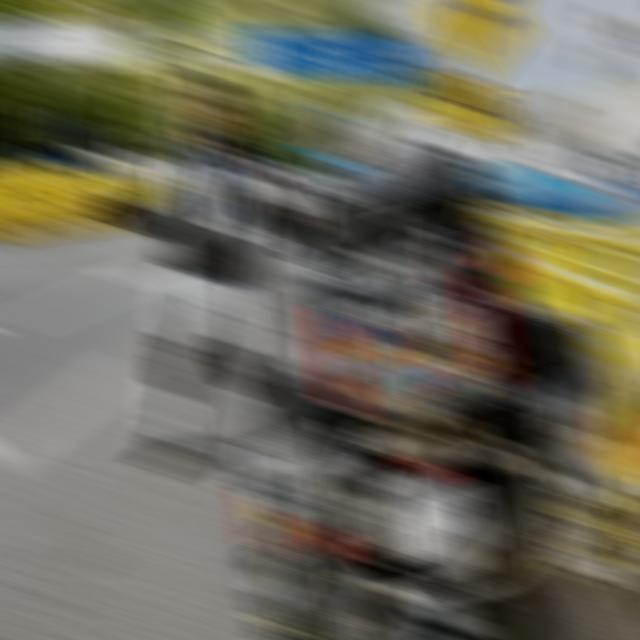Without Helmet: (171, 60, 242, 150)
